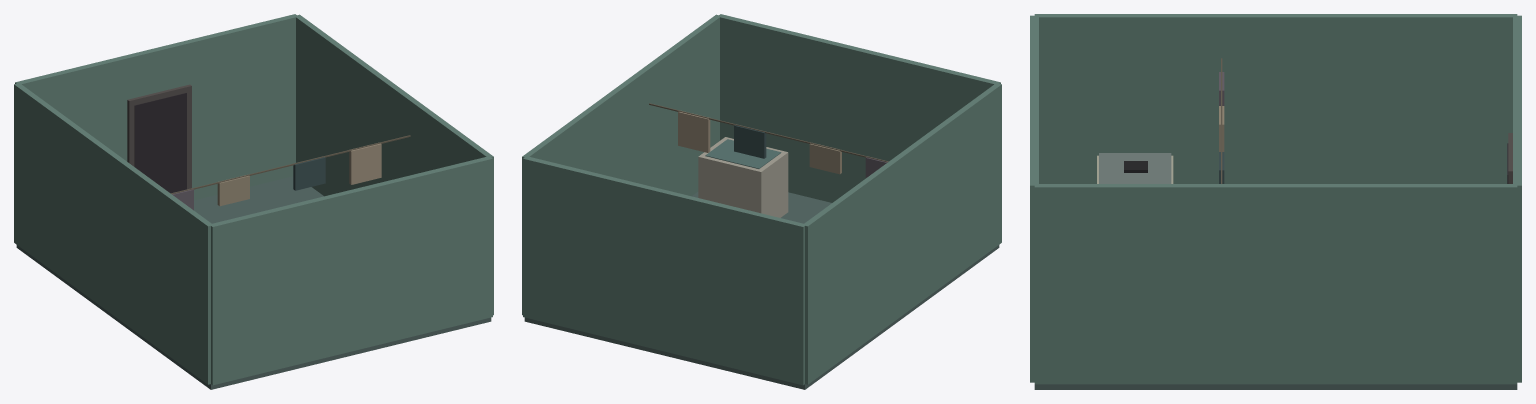
The model's file is lavaderoDesfase.obj.
3 views of the same model, side by side, from view 1: azimuth 30°, elevation 25°; view 2: azimuth 150°, elevation 25°; view 3: azimuth 270°, elevation 25° (orthographic). The views are drawn at different scales.
Parts seen in each view (by area): view 1: lavaderoDesfase_c2_12, lavaderoDesfase_c2_10, lavaderoDesfase_c2_13, lavaderoDesfase_c2_11, lavaderoDesfase_c2_9, lavaderoDesfase_c2_16, lavaderoDesfase_c2_15, lavaderoDesfase_c2_27, lavaderoDesfase_c2_26, lavaderoDesfase_c2_25, lavaderoDesfase_c2_23; view 2: lavaderoDesfase_c2_13, lavaderoDesfase_c2_10, lavaderoDesfase_c2_12, lavaderoDesfase_c2_11, lavaderoDesfase_c2_21, lavaderoDesfase_c2_9, lavaderoDesfase_c2_27, lavaderoDesfase_c2_22, lavaderoDesfase_c2_26, lavaderoDesfase_c2_25, lavaderoDesfase_c2_23; view 3: lavaderoDesfase_c2_11, lavaderoDesfase_c2_10, lavaderoDesfase_c2_9, lavaderoDesfase_c2_12, lavaderoDesfase_c2_13, lavaderoDesfase_c2_19.
Part boxes in pixels (x1,y1,x2,y2): lavaderoDesfase_c2_12: (211, 156, 492, 385); lavaderoDesfase_c2_10: (14, 83, 212, 384); lavaderoDesfase_c2_13: (15, 14, 297, 200); lavaderoDesfase_c2_11: (295, 14, 493, 315); lavaderoDesfase_c2_9: (16, 176, 491, 389); lavaderoDesfase_c2_16: (134, 93, 186, 193); lavaderoDesfase_c2_15: (127, 84, 191, 189); lavaderoDesfase_c2_27: (349, 142, 381, 184); lavaderoDesfase_c2_26: (293, 157, 325, 190); lavaderoDesfase_c2_25: (217, 175, 249, 206); lavaderoDesfase_c2_23: (171, 135, 410, 194); lavaderoDesfase_c2_13: (523, 156, 804, 385); lavaderoDesfase_c2_10: (803, 83, 1001, 384); lavaderoDesfase_c2_12: (717, 14, 1000, 202); lavaderoDesfase_c2_11: (522, 14, 720, 315); lavaderoDesfase_c2_21: (698, 137, 788, 217); lavaderoDesfase_c2_9: (524, 192, 999, 389); lavaderoDesfase_c2_27: (678, 110, 710, 152); lavaderoDesfase_c2_22: (705, 139, 781, 168); lavaderoDesfase_c2_26: (734, 124, 766, 158); lavaderoDesfase_c2_25: (809, 143, 841, 174); lavaderoDesfase_c2_23: (649, 103, 888, 162); lavaderoDesfase_c2_11: (1034, 184, 1517, 384); lavaderoDesfase_c2_10: (1034, 14, 1517, 183); lavaderoDesfase_c2_9: (1034, 384, 1517, 389); lavaderoDesfase_c2_12: (1030, 15, 1038, 382); lavaderoDesfase_c2_13: (1513, 15, 1521, 382); lavaderoDesfase_c2_19: (1099, 153, 1171, 183).
Size of the model in its own units: 10.2 by 5.6 by 12.22.
